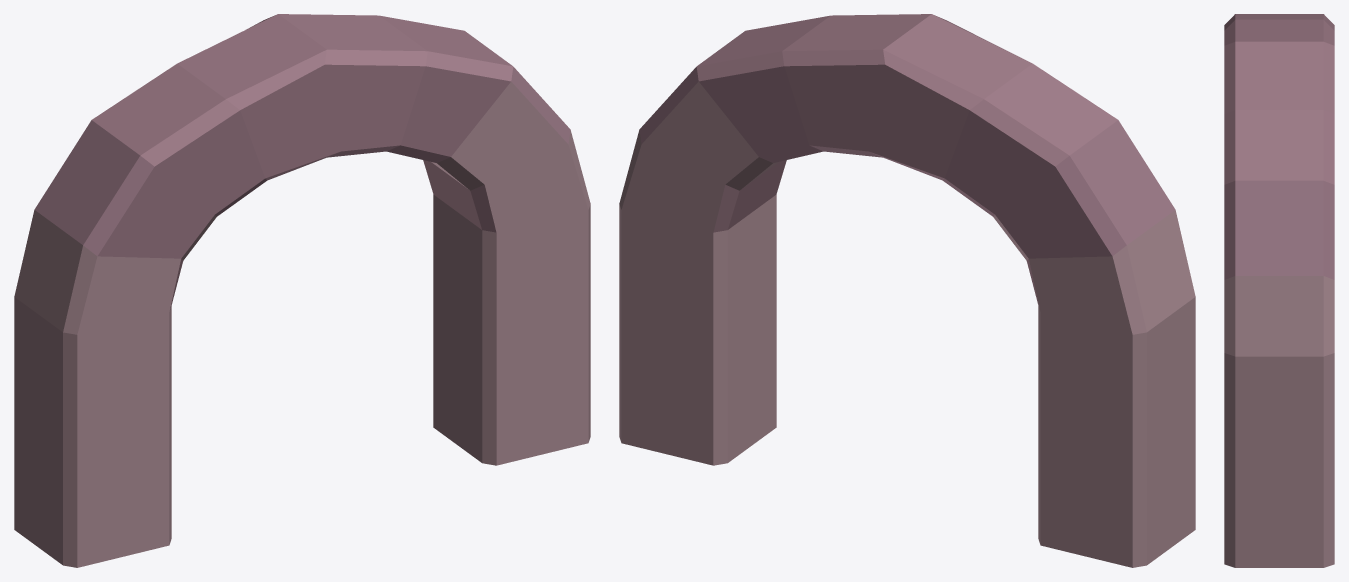
The model's file is stone-arch.glb.
The picture shows the model from 3 angles, left to right: view 1: azimuth 30°, elevation 25°; view 2: azimuth 150°, elevation 25°; view 3: azimuth 270°, elevation 25°; orthographic projection. The views are drawn at different scales.
Parts seen in each view (by area): view 1: Amber sandstone arch; view 2: Amber sandstone arch; view 3: Amber sandstone arch.
Part boxes in pixels (<box>): Amber sandstone arch: <box>14,14,590,567</box>; Amber sandstone arch: <box>619,14,1195,567</box>; Amber sandstone arch: <box>1224,14,1334,567</box>.
Bounding box in the file's own units: 9 × 7.36 × 1.8.
